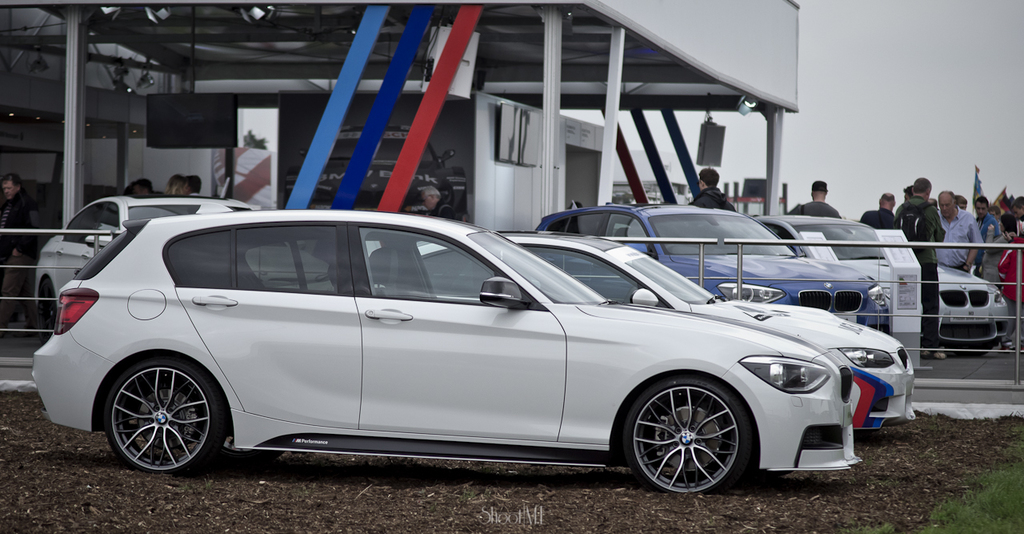Car: (30, 192, 1008, 494)
